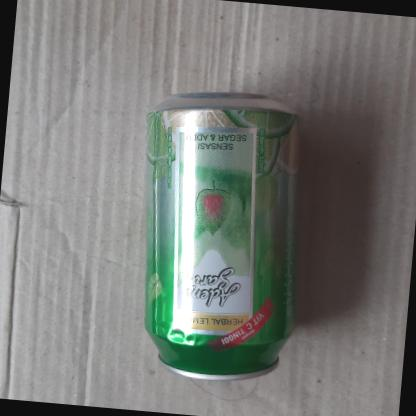alumunium_can: (87, 58, 324, 410)
